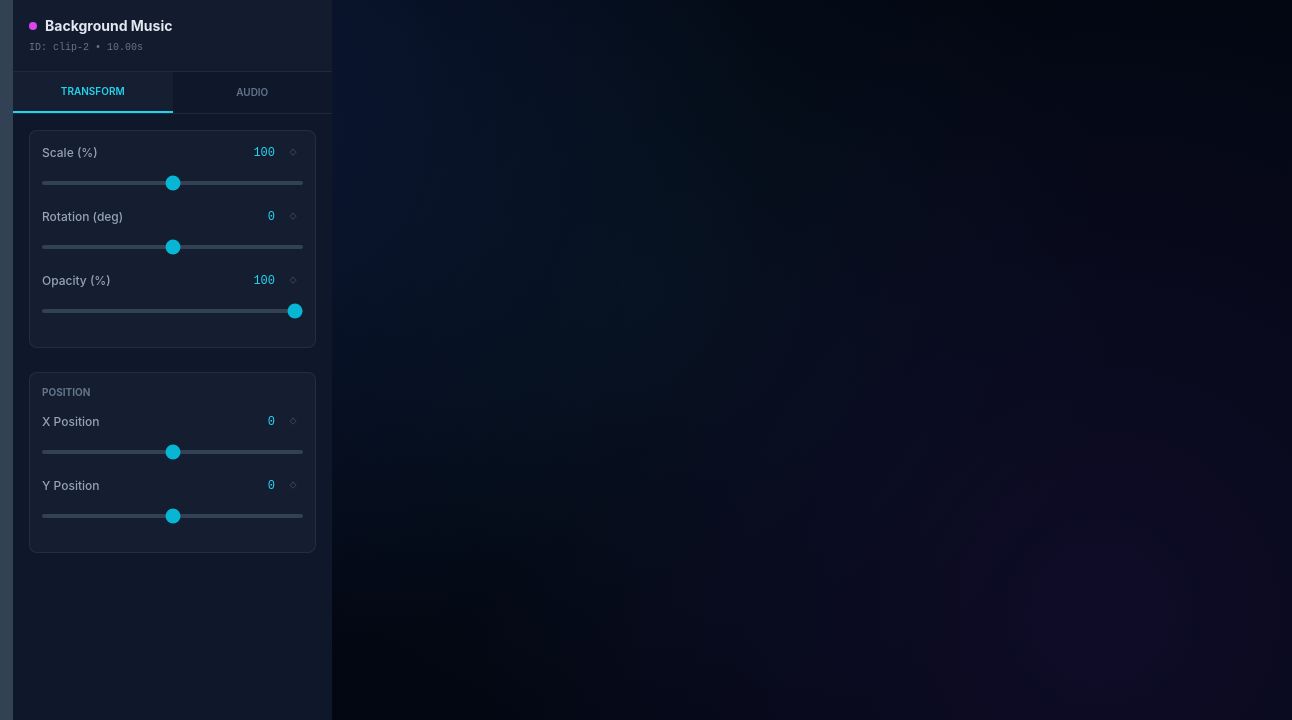
Test case: InspectorPanel › audio section › should show volume control for audio clips
What coordinates should you click on to do the following:
click the tab "Audio"
I would click on:
 (252, 92)
Its box is [172,72,332,113].
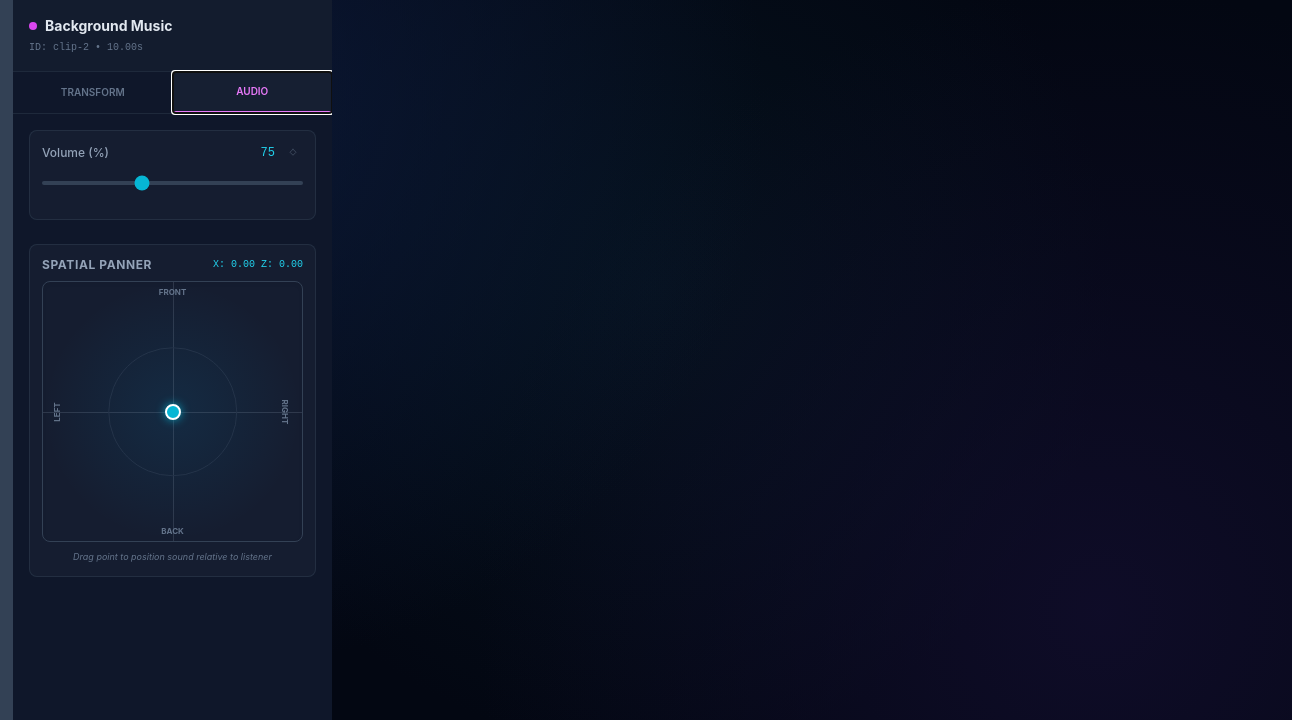
Expected: the text "Volume (%)" is shown, [42,145,109,161]
